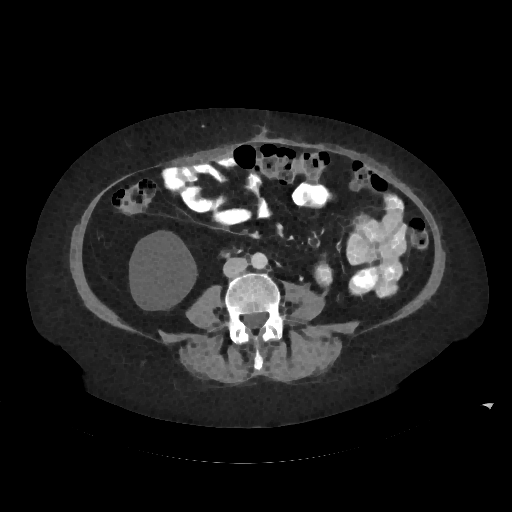Lesion: (126, 226, 201, 314)
